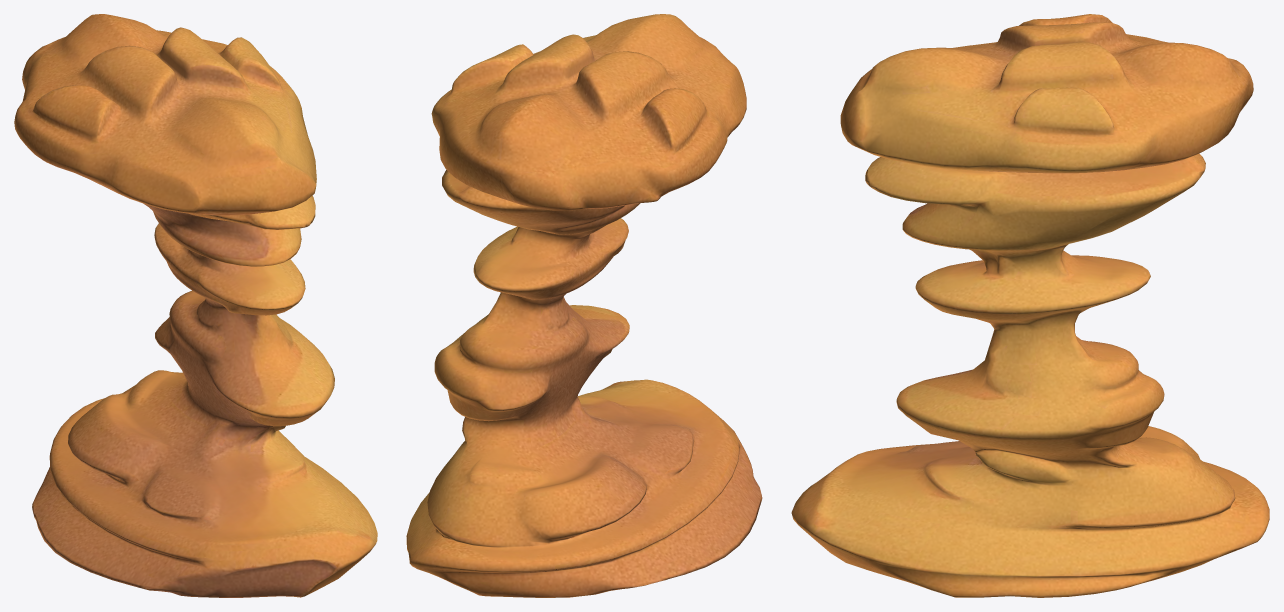
File: tripo_convert_731cfaf7-bb1b-4135-b8b1-919a7bd04f8a.fbx
3 renders of one model, left to right at view 1: azimuth 30°, elevation 25°; view 2: azimuth 150°, elevation 25°; view 3: azimuth 270°, elevation 25°, orthographic. The views are drawn at different scales.
Visible parts, largest first — view 1: tripo_node_731cfaf7; view 2: tripo_node_731cfaf7; view 3: tripo_node_731cfaf7.
Boxes of the visible parts, x1,y1,x2,y2 form: tripo_node_731cfaf7: [14, 14, 377, 597]; tripo_node_731cfaf7: [406, 14, 762, 597]; tripo_node_731cfaf7: [791, 14, 1269, 597].
Size of the model in its own units: 61.28 by 88.04 by 99.95.
Materials: 1 (1 with a texture image).
